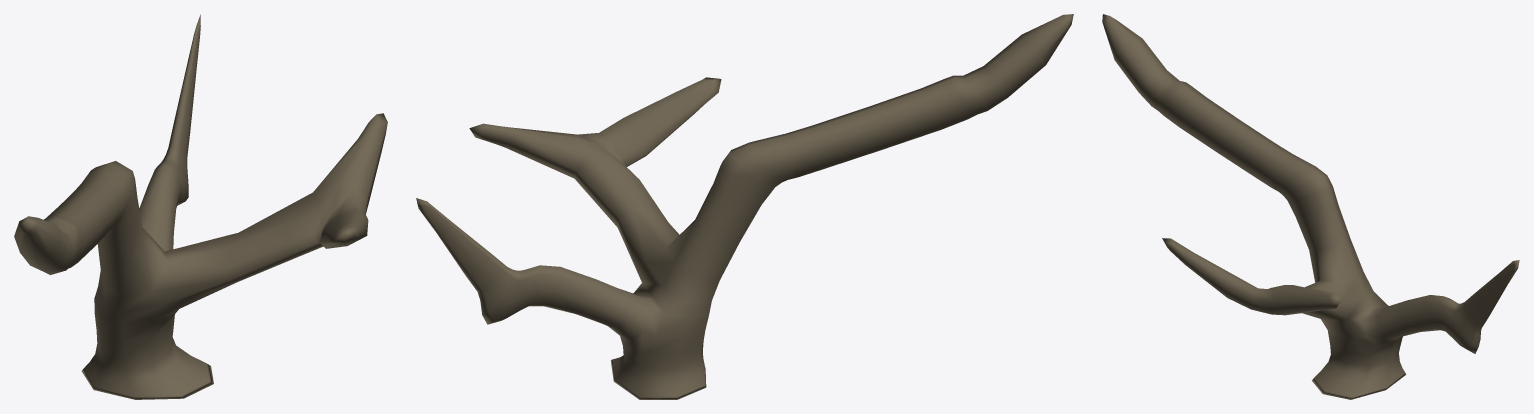
The model's file is tree_bare.fbx.
The picture shows the model from 3 angles, left to right: view 1: azimuth 30°, elevation 25°; view 2: azimuth 150°, elevation 25°; view 3: azimuth 270°, elevation 25°; orthographic projection. The views are drawn at different scales.
Visible parts, largest first — view 1: tree_bare; view 2: tree_bare; view 3: tree_bare.
Part boxes in pixels (<box>): tree_bare: <box>14,14,387,399</box>; tree_bare: <box>416,14,1073,399</box>; tree_bare: <box>1102,14,1519,399</box>.
Bounding box in the file's own units: 5129 × 3340 × 4847.
